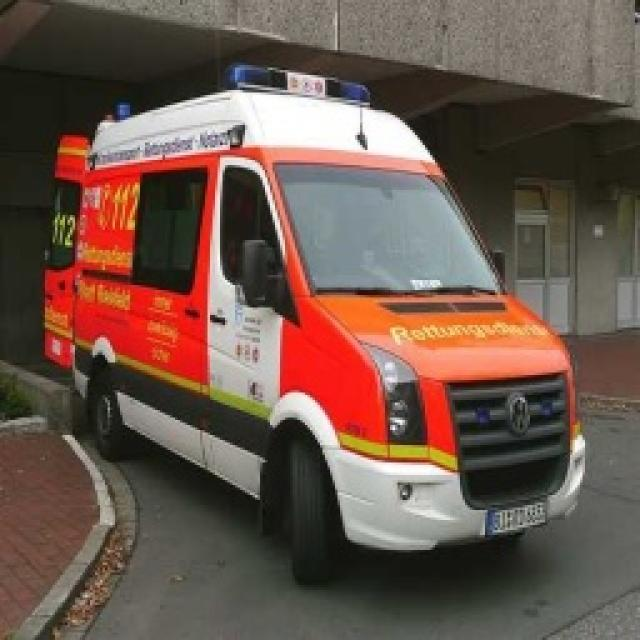ambulance: (58, 65, 580, 580)
